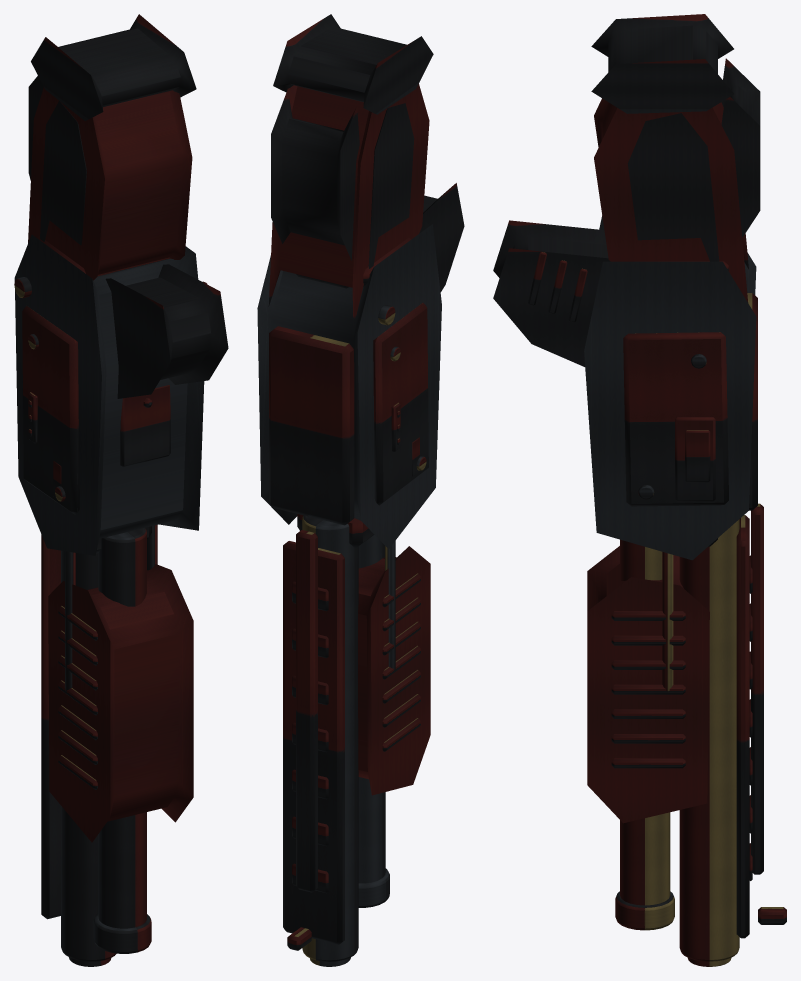
The model's file is BLIKK_B8_BREAKSHOT_V3_1.glb.
3 renders of one model, left to right at view 1: azimuth 30°, elevation 25°; view 2: azimuth 150°, elevation 25°; view 3: azimuth 270°, elevation 25°, orthographic. The views are drawn at different scales.
Parts seen in each view (by area): view 1: PumpCore, ReceiverCore, StockBody, PistolGrip, ButtPad, ReceiverLeftPlate, MagazineTube, Barrel, StockInset, HeatShield, LoadingGate, MagazineCap (+2 smaller); view 2: ReceiverCore, ReceiverTopSpine, HeatShield, PumpCore, StockBody, CheekRest, ButtPad, ReceiverLeftPlate, SightRail, Barrel, StockInset, MagazineTube (+4 smaller); view 3: ReceiverCore, PumpCore, Barrel, ReceiverRightPlate, StockBody, ButtPad, PistolGrip, StockInset, MagazineTube, HeatShield, SightRail, CheekRest (+12 smaller).
Part boxes in pixels (bbox=[...]): PumpCore: bbox=[48, 564, 193, 842]; ReceiverCore: bbox=[14, 234, 204, 555]; StockBody: bbox=[28, 87, 192, 280]; PistolGrip: bbox=[105, 264, 228, 398]; ButtPad: bbox=[31, 14, 196, 120]; ReceiverLeftPlate: bbox=[22, 306, 79, 514]; MagazineTube: bbox=[98, 528, 146, 928]; Barrel: bbox=[61, 550, 116, 961]; StockInset: bbox=[40, 101, 86, 245]; HeatShield: bbox=[41, 534, 60, 919]; LoadingGate: bbox=[120, 385, 170, 467]; MagazineCap: bbox=[93, 913, 151, 953]; ReceiverCore: bbox=[257, 224, 441, 548]; ReceiverTopSpine: bbox=[269, 326, 354, 525]; HeatShield: bbox=[283, 541, 344, 944]; PumpCore: bbox=[358, 546, 430, 795]; StockBody: bbox=[268, 84, 429, 327]; CheekRest: bbox=[271, 89, 359, 260]; ButtPad: bbox=[273, 14, 433, 114]; ReceiverLeftPlate: bbox=[373, 302, 428, 505]; SightRail: bbox=[296, 530, 317, 892]; Barrel: bbox=[302, 515, 358, 961]; StockInset: bbox=[368, 103, 414, 268]; MagazineTube: bbox=[358, 535, 385, 883]; ReceiverCore: bbox=[584, 215, 756, 560]; PumpCore: bbox=[587, 546, 709, 823]; Barrel: bbox=[679, 519, 739, 961]; ReceiverRightPlate: bbox=[623, 332, 728, 506]; StockBody: bbox=[594, 98, 748, 302]; ButtPad: bbox=[591, 14, 733, 113]; PistolGrip: bbox=[493, 220, 610, 366]; StockInset: bbox=[627, 113, 719, 261]; MagazineTube: bbox=[620, 539, 670, 905]; HeatShield: bbox=[736, 515, 749, 938]; SightRail: bbox=[751, 503, 763, 874]; CheekRest: bbox=[721, 58, 760, 237].
Bounding box in the file's own units: 0.4823 × 3.24 × 0.9338.
Materials: 4 (4 with a texture image).
